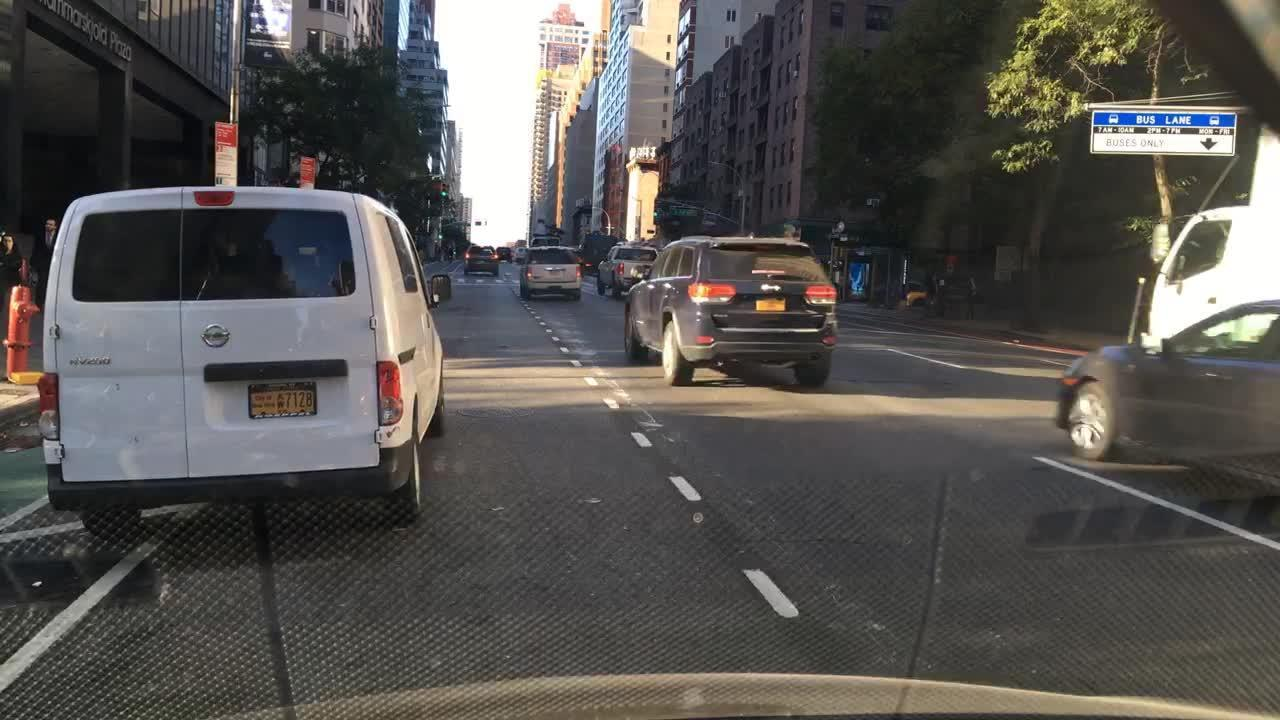Nissan: (194, 319, 233, 354)
